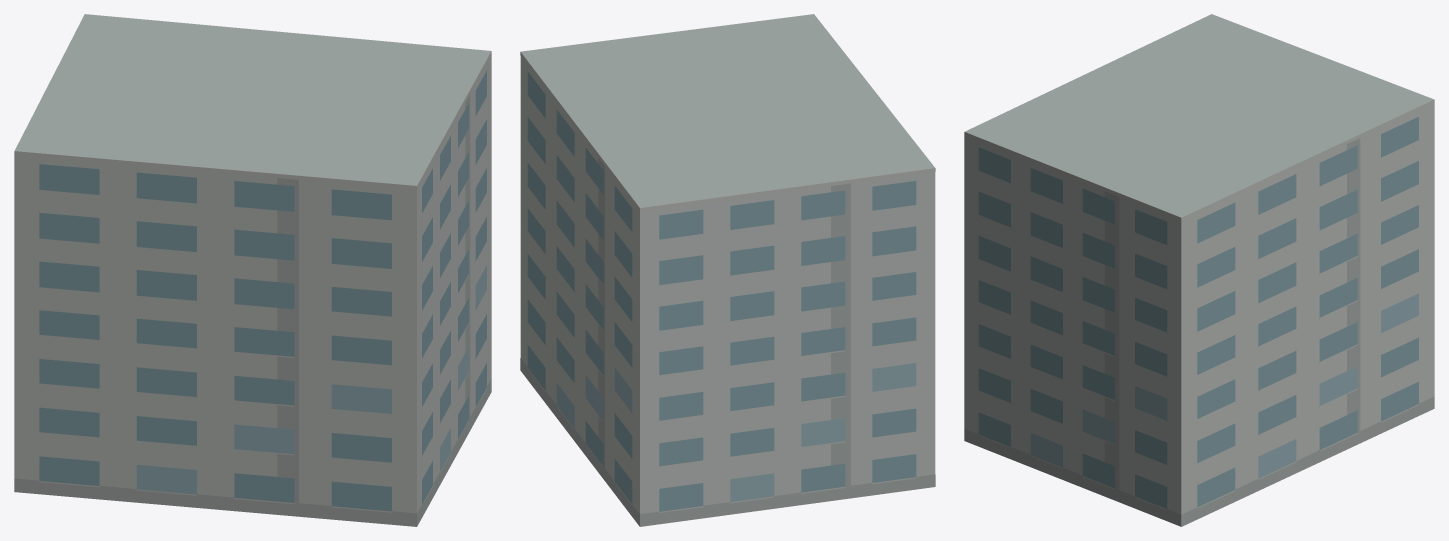
Rendered from survey-upis-32848592.glb.
The picture shows the model from 3 angles, left to right: view 1: azimuth 30°, elevation 25°; view 2: azimuth 150°, elevation 25°; view 3: azimuth 270°, elevation 25°; orthographic projection. The views are drawn at different scales.
Parts seen in each view (by area): view 1: survey-upis-32848592.tmp; view 2: survey-upis-32848592.tmp; view 3: survey-upis-32848592.tmp.
Part boxes in pixels (x1,y1,x2,y2): survey-upis-32848592.tmp: (14, 14, 491, 526); survey-upis-32848592.tmp: (520, 14, 935, 526); survey-upis-32848592.tmp: (964, 14, 1434, 526).
Size of the model in its own units: 28.7 by 20.3 by 27.98.
